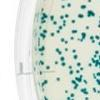Blue_green: (38, 60, 45, 67), (71, 48, 78, 55), (77, 12, 84, 19), (55, 75, 61, 83), (39, 45, 45, 52), (72, 54, 79, 60), (42, 33, 47, 41), (70, 29, 78, 34), (64, 47, 70, 53), (42, 28, 48, 34), (61, 4, 66, 11), (79, 5, 86, 10), (40, 19, 47, 24), (95, 59, 100, 66), (82, 31, 86, 39), (87, 9, 91, 17), (91, 9, 95, 17), (39, 83, 45, 88), (68, 69, 74, 74), (60, 56, 65, 62), (71, 18, 76, 24), (61, 23, 67, 28), (39, 16, 45, 21), (77, 38, 83, 43), (50, 14, 54, 21), (59, 24, 63, 31), (78, 76, 82, 83), (43, 95, 48, 100), (61, 62, 66, 67), (59, 14, 64, 19), (91, 39, 96, 44), (89, 35, 94, 40), (83, 80, 88, 85), (71, 79, 76, 84), (46, 64, 50, 70), (68, 92, 74, 96), (38, 69, 42, 75), (55, 47, 59, 53), (92, 88, 96, 94), (83, 91, 89, 95), (90, 57, 94, 63), (93, 60, 97, 66), (43, 80, 48, 84), (76, 62, 81, 66), (80, 67, 84, 72), (64, 40, 68, 45), (71, 36, 75, 41), (53, 20, 57, 25), (65, 13, 69, 18), (62, 18, 66, 23), (43, 15, 48, 19), (42, 11, 46, 16), (95, 36, 100, 40), (81, 88, 86, 92), (72, 86, 77, 90), (74, 82, 79, 86), (88, 63, 92, 68), (94, 50, 99, 54), (83, 97, 89, 100), (51, 32, 54, 38), (64, 90, 68, 94), (54, 61, 58, 65), (60, 38, 64, 42), (96, 90, 100, 94), (75, 77, 79, 81), (58, 50, 61, 55), (39, 32, 42, 37), (68, 3, 71, 8), (85, 25, 88, 30), (56, 29, 59, 34), (41, 54, 46, 57), (97, 40, 100, 45), (93, 54, 96, 59), (67, 97, 71, 100), (77, 70, 80, 74), (87, 0, 91, 3), (69, 65, 72, 68), (39, 26, 42, 29), (98, 24, 100, 28), (99, 55, 100, 59)
